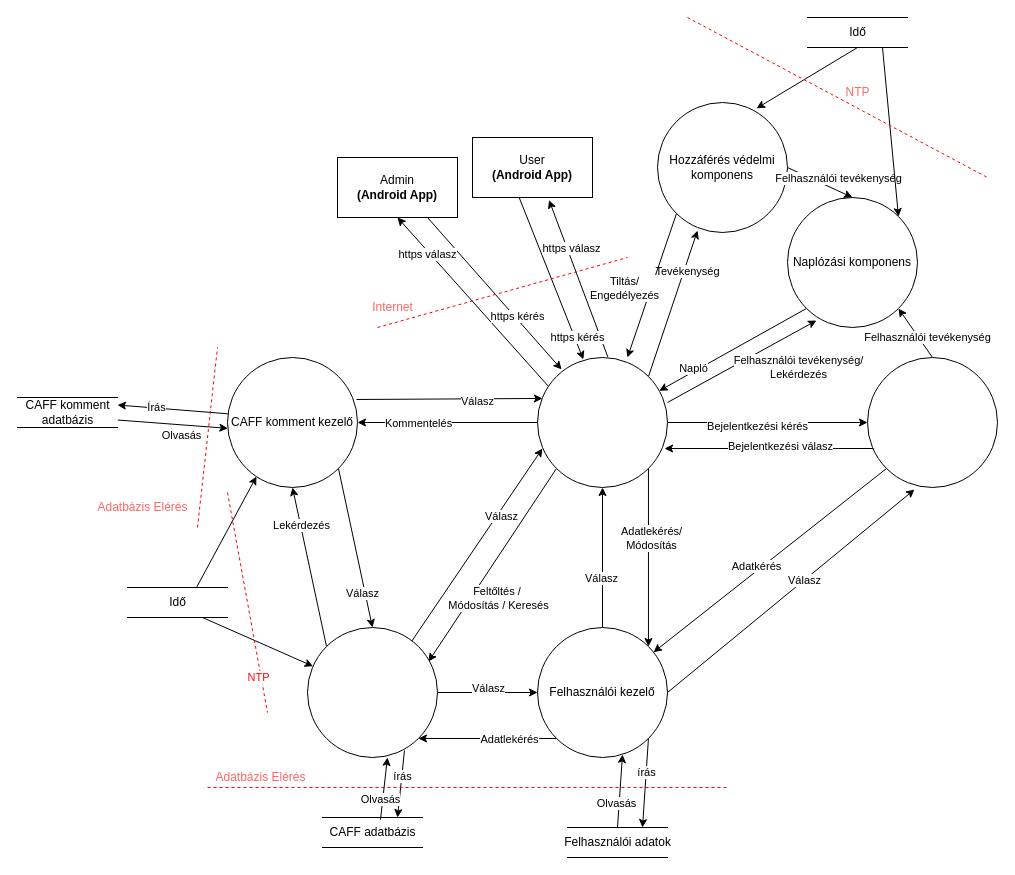
This 1015x875 diagram has some shape labels left out. Here are the shapes that lost their labels. From the top down, the centre of each, then its label:
At (x=602, y=422): "Webszerver".
At (x=932, y=422): "Autentikációs komponens".
At (x=372, y=692): "CAFF kezelő".
